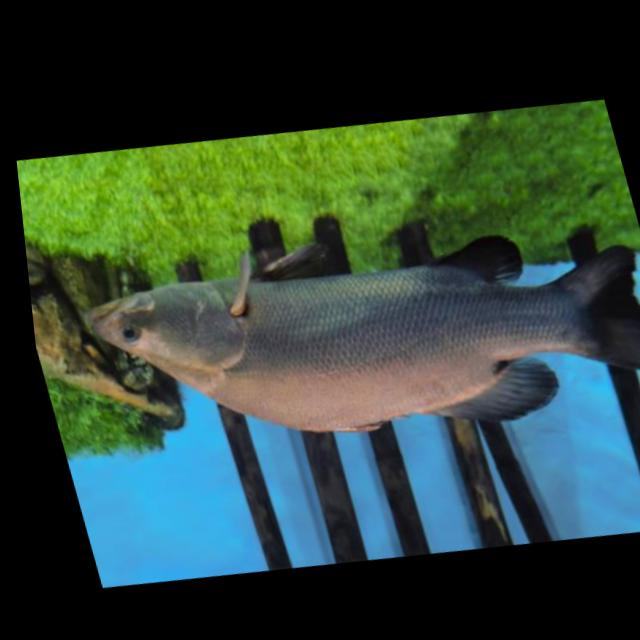Seabass: (60, 163, 640, 507)
